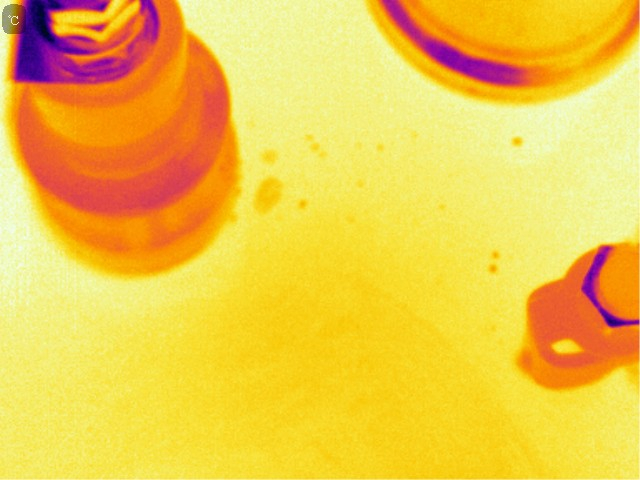Water: (249, 170, 287, 208), (302, 129, 327, 160), (257, 140, 285, 164), (488, 249, 502, 277), (297, 193, 314, 213), (509, 133, 526, 151), (373, 138, 386, 157)
